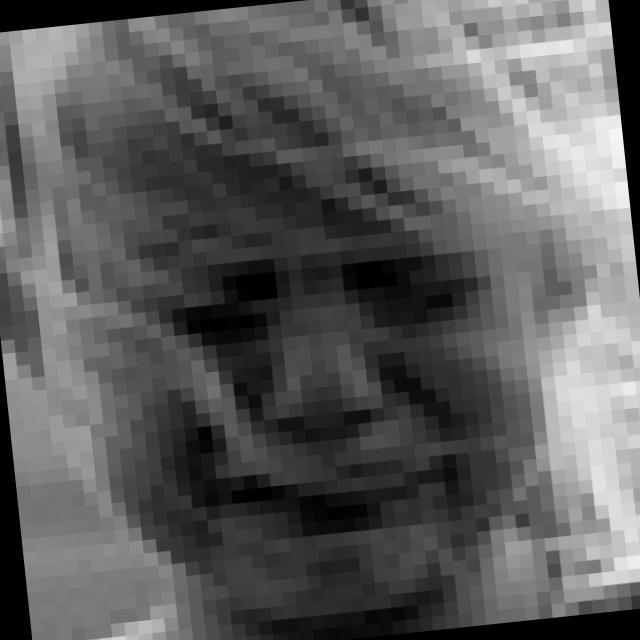sad: (134, 224, 525, 606)
